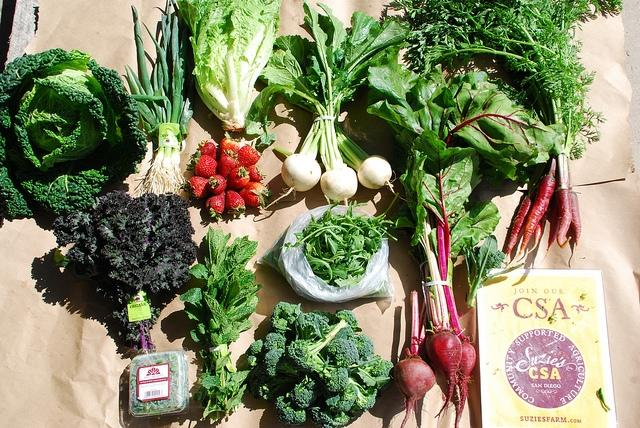broccoli: (286, 317, 346, 372), (285, 372, 317, 409), (314, 362, 349, 392), (326, 338, 360, 368)
carrot: (505, 154, 556, 268), (526, 191, 560, 269), (506, 198, 532, 262), (556, 153, 572, 249), (570, 192, 582, 264), (527, 210, 547, 253)
lettuce: (178, 2, 282, 131)
strawberry: (238, 182, 274, 208), (186, 155, 220, 179), (181, 176, 212, 199), (218, 148, 239, 180), (238, 144, 264, 168), (220, 132, 242, 160), (206, 190, 226, 220), (226, 190, 245, 218), (227, 166, 250, 188), (196, 140, 217, 160), (246, 164, 268, 182), (208, 174, 226, 194)
